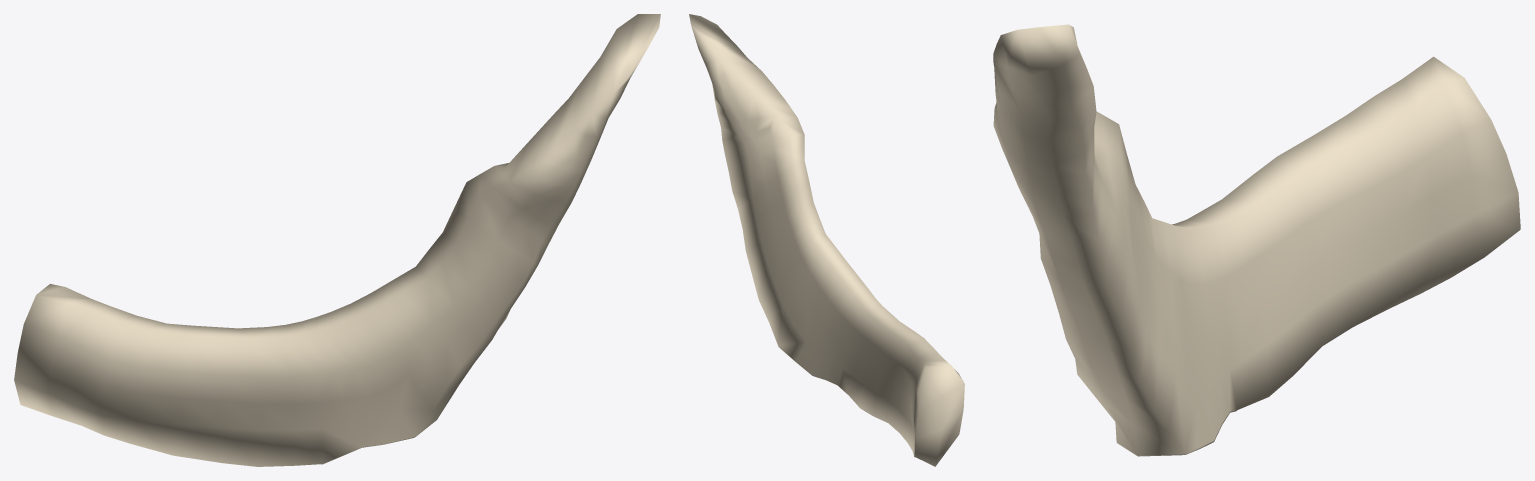
The model's file is costal-cartilage-of-eighth-rib-r.glb.
The picture shows the model from 3 angles, left to right: view 1: azimuth 30°, elevation 25°; view 2: azimuth 150°, elevation 25°; view 3: azimuth 270°, elevation 25°; orthographic projection. The views are drawn at different scales.
Parts seen in each view (by area): view 1: Costal cartilage of eighth rib.r; view 2: Costal cartilage of eighth rib.r; view 3: Costal cartilage of eighth rib.r.
Part boxes in pixels (x1,y1,x2,y2): Costal cartilage of eighth rib.r: (14, 14, 660, 466); Costal cartilage of eighth rib.r: (689, 14, 964, 466); Costal cartilage of eighth rib.r: (993, 24, 1520, 456).
Bounding box in the file's own units: 0.0842 × 0.0656 × 0.0514.
